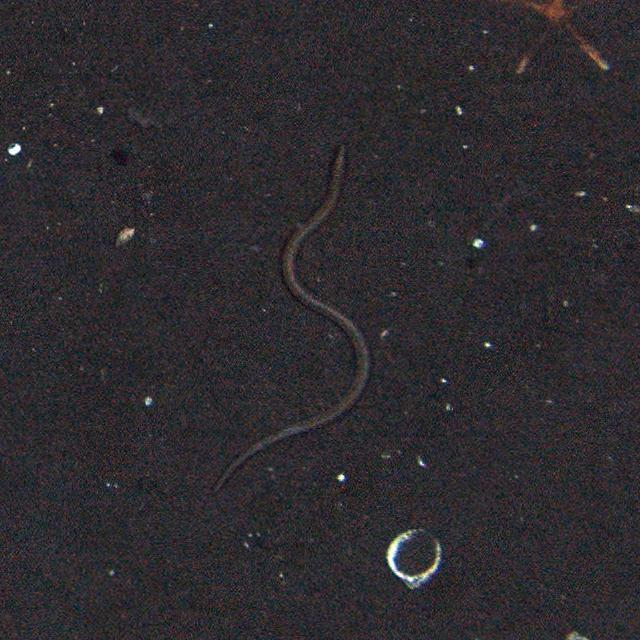eel: (206, 149, 374, 497)
